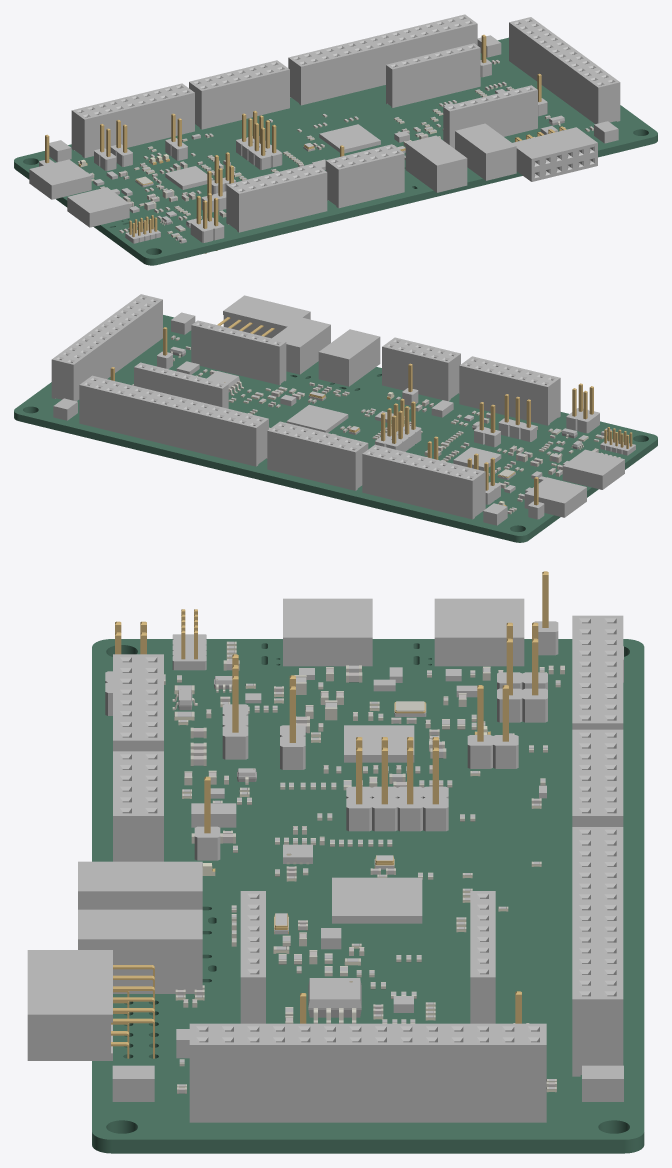
File: active.digital-twin.glb
3 views of the same model, one above another, from view 1: azimuth 30°, elevation 25°; view 2: azimuth 150°, elevation 25°; view 3: azimuth 270°, elevation 25° (orthographic). The views are drawn at different scales.
Visible parts, largest first — view 1: =>[0:1:1:112], ref:J9, ref:J8, ref:J2, ref:J3, ref:J1, ref:J5, ref:J4, ref:J6, ref:J7, ref:J14, ref:J21 (+17 smaller); view 2: =>[0:1:1:112], ref:J9, ref:J2, ref:J8, ref:J1, ref:J3, ref:J6, ref:J4, ref:J14, ref:J5, ref:J7, ref:J21 (+19 smaller); view 3: =>[0:1:1:112], ref:J8, ref:J9, ref:J7, ref:J21, ref:J11, ref:J14, ref:J10, ref:J2, ref:J4, ref:J1, ref:J3 (+21 smaller).
Boxes of the visible parts, bbox=[...] form: =>[0:1:1:112]: bbox=[14, 37, 657, 265]; ref:J9: bbox=[288, 14, 477, 105]; ref:J8: bbox=[509, 17, 620, 123]; ref:J2: bbox=[71, 83, 194, 158]; ref:J3: bbox=[226, 163, 327, 232]; ref:J1: bbox=[189, 60, 289, 129]; ref:J5: bbox=[386, 43, 480, 107]; ref:J4: bbox=[325, 144, 404, 208]; ref:J6: bbox=[443, 85, 537, 148]; ref:J7: bbox=[512, 126, 597, 181]; ref:J14: bbox=[405, 135, 467, 192]; ref:J21: bbox=[455, 123, 516, 180]; =>[0:1:1:112]: bbox=[14, 315, 657, 542]; ref:J9: bbox=[79, 375, 268, 466]; ref:J2: bbox=[362, 444, 485, 519]; ref:J8: bbox=[51, 294, 162, 401]; ref:J1: bbox=[267, 421, 368, 490]; ref:J3: bbox=[459, 356, 560, 425]; ref:J6: bbox=[191, 320, 286, 385]; ref:J4: bbox=[382, 337, 460, 401]; ref:J14: bbox=[318, 329, 380, 386]; ref:J5: bbox=[134, 362, 228, 408]; ref:J7: bbox=[217, 295, 310, 338]; ref:J21: bbox=[272, 317, 330, 374]; =>[0:1:1:112]: bbox=[92, 639, 644, 1153]; ref:J8: bbox=[189, 1023, 546, 1122]; ref:J9: bbox=[572, 827, 623, 1076]; ref:J7: bbox=[27, 950, 154, 1060]; ref:J21: bbox=[78, 909, 202, 993]; ref:J11: bbox=[283, 598, 372, 666]; ref:J14: bbox=[78, 861, 202, 909]; ref:J10: bbox=[434, 598, 524, 666]; ref:J2: bbox=[572, 615, 623, 729]; ref:J4: bbox=[113, 751, 163, 861]; ref:J1: bbox=[572, 729, 623, 826]; ref:J3: bbox=[113, 654, 163, 751].
Bounding box in the file's own units: 0.1206 × 0.0116 × 0.0614.
